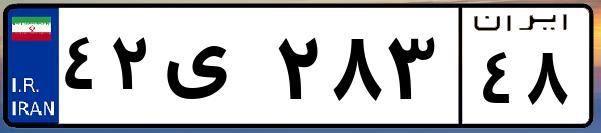2: (270, 28, 330, 110), (110, 28, 158, 98)
3: (385, 28, 445, 110)
4: (57, 26, 110, 100), (475, 38, 525, 113)
8: (330, 28, 385, 110), (525, 38, 570, 115)
ی: (158, 20, 270, 120)
